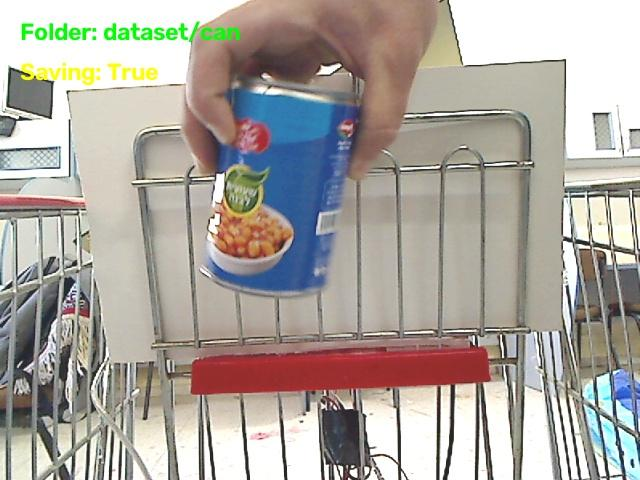can: (201, 78, 358, 296)
